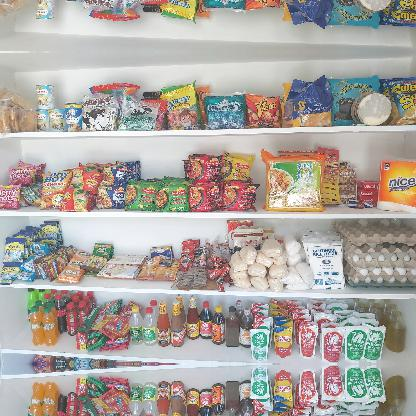Lady-s-Choice: (351, 92, 391, 124), (351, 0, 392, 13)
